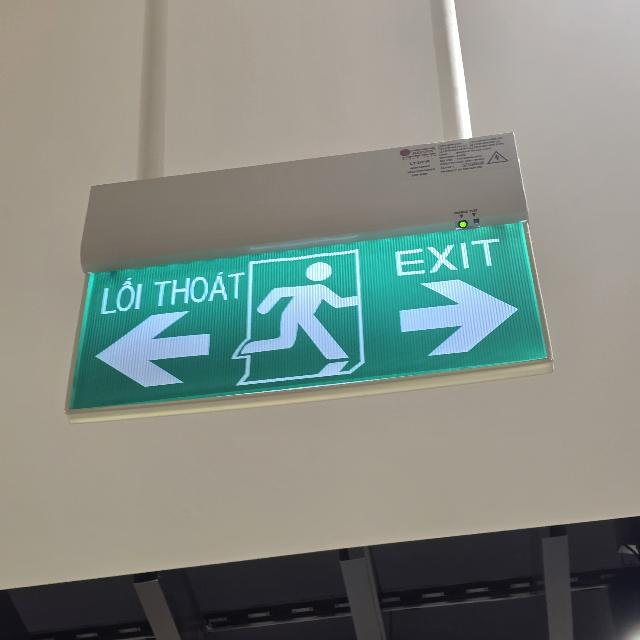exit: (69, 222, 551, 412)
